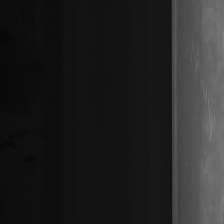silk_spot: (188, 28, 218, 164)
